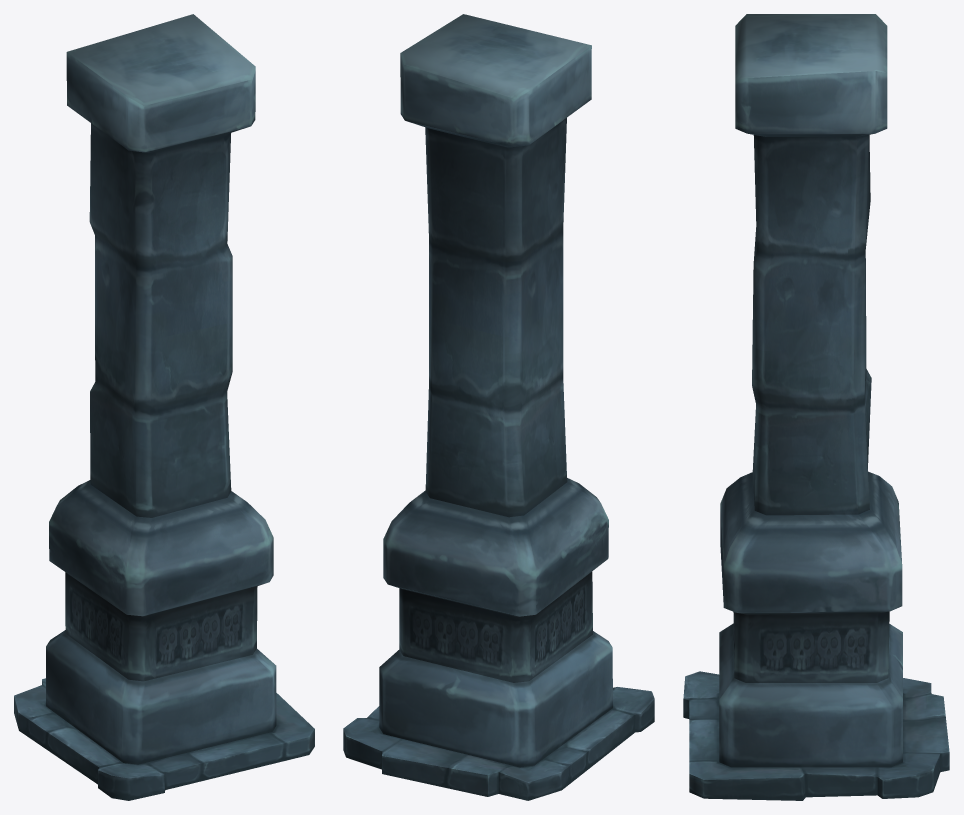
File: StonePillar.fbx
The picture shows the model from 3 angles, left to right: view 1: azimuth 30°, elevation 25°; view 2: azimuth 150°, elevation 25°; view 3: azimuth 270°, elevation 25°; orthographic projection. The views are drawn at different scales.
Visible parts, largest first — view 1: dungoen_pillar; view 2: dungoen_pillar; view 3: dungoen_pillar.
Boxes of the visible parts, x1,y1,x2,y2 form: dungoen_pillar: (14,14,314,800); dungoen_pillar: (343,14,654,800); dungoen_pillar: (683,14,949,800).
Bounding box in the file's own units: 105 × 326 × 111.
1 material, 1 textured.
